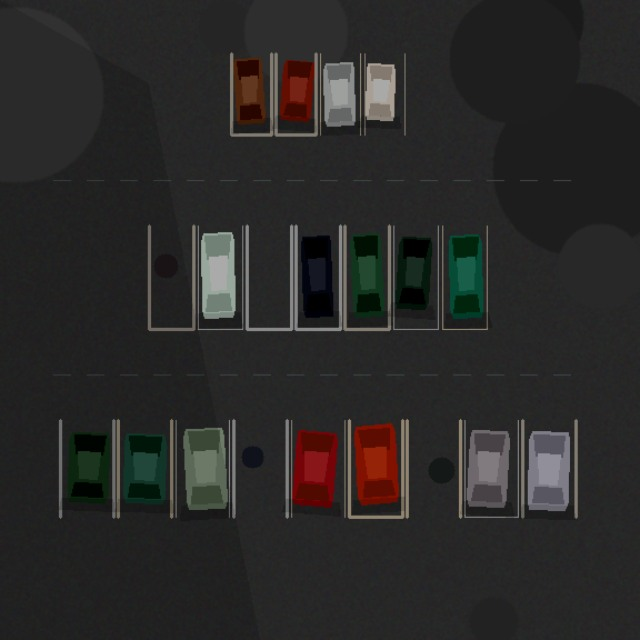space-empty: (233, 420, 287, 517), (407, 420, 460, 517), (149, 226, 193, 329), (247, 226, 291, 329)
space-occupied: (464, 420, 518, 517), (522, 420, 576, 517), (60, 420, 113, 517), (118, 420, 171, 517), (176, 420, 229, 517), (291, 420, 344, 517), (349, 420, 402, 517), (344, 226, 389, 329), (393, 226, 438, 329), (442, 226, 487, 329), (198, 226, 242, 329), (296, 226, 340, 329), (231, 53, 271, 134), (276, 53, 316, 134), (320, 53, 360, 134), (364, 53, 404, 134)
